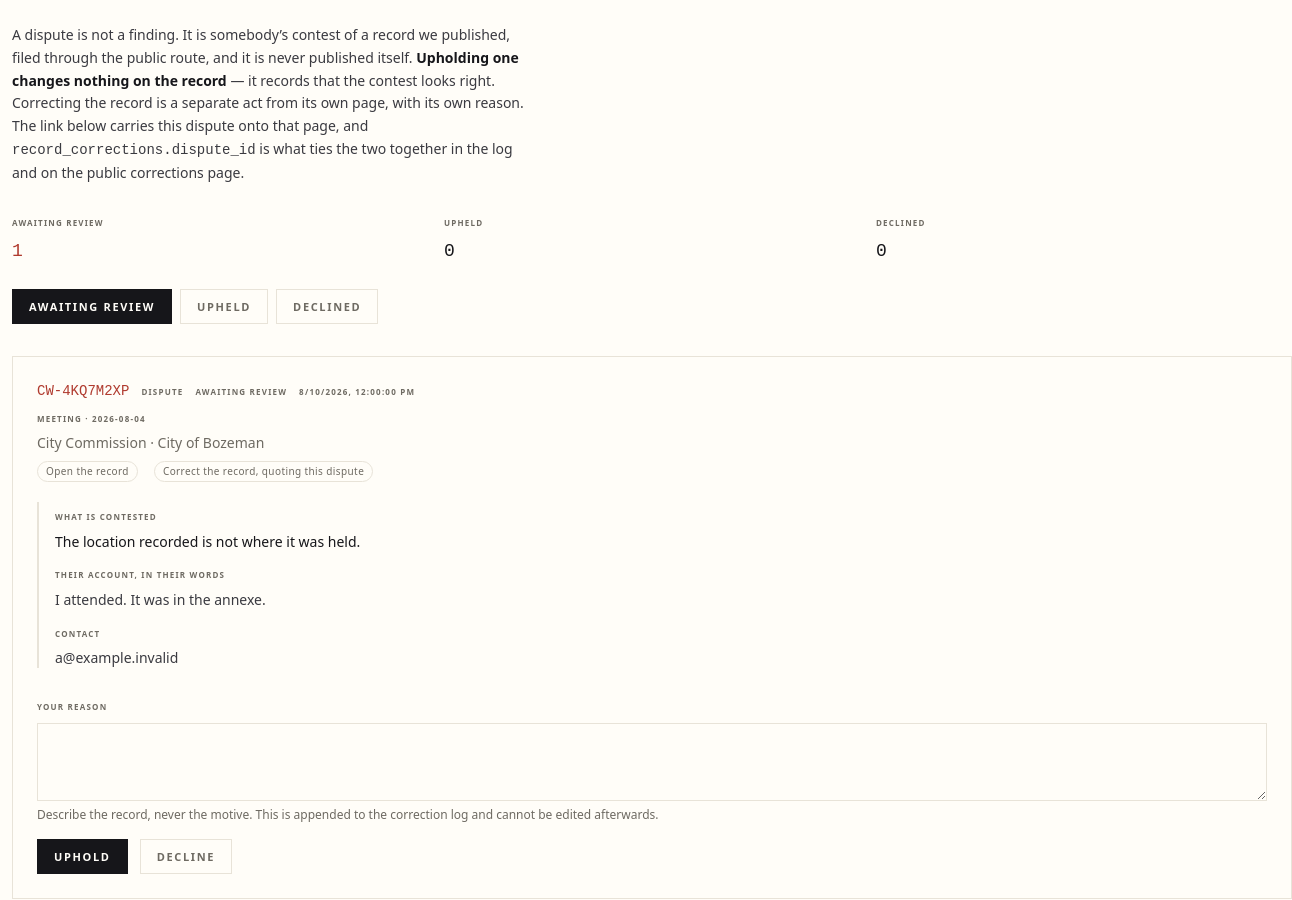
DisputeQueue › upholds with a reason and says the record has not changed
Step 1. Type "The agenda names the annexe." into the text box labelled "Your reason" → (652, 762), box top-left (37, 723), bottom-right (1267, 801)
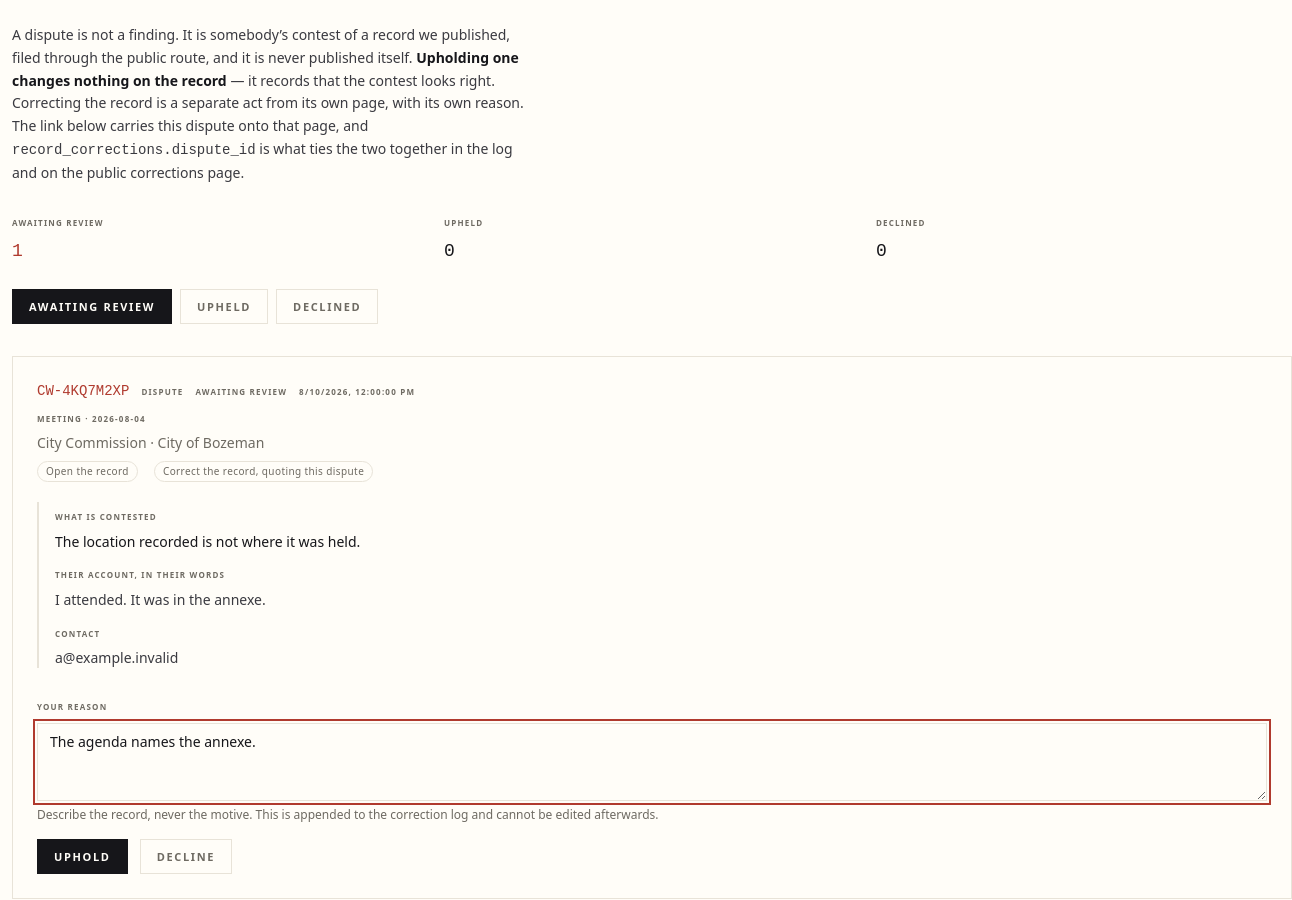
Step 2. Click the button "Uphold" → (82, 856), box top-left (37, 839), bottom-right (128, 874)
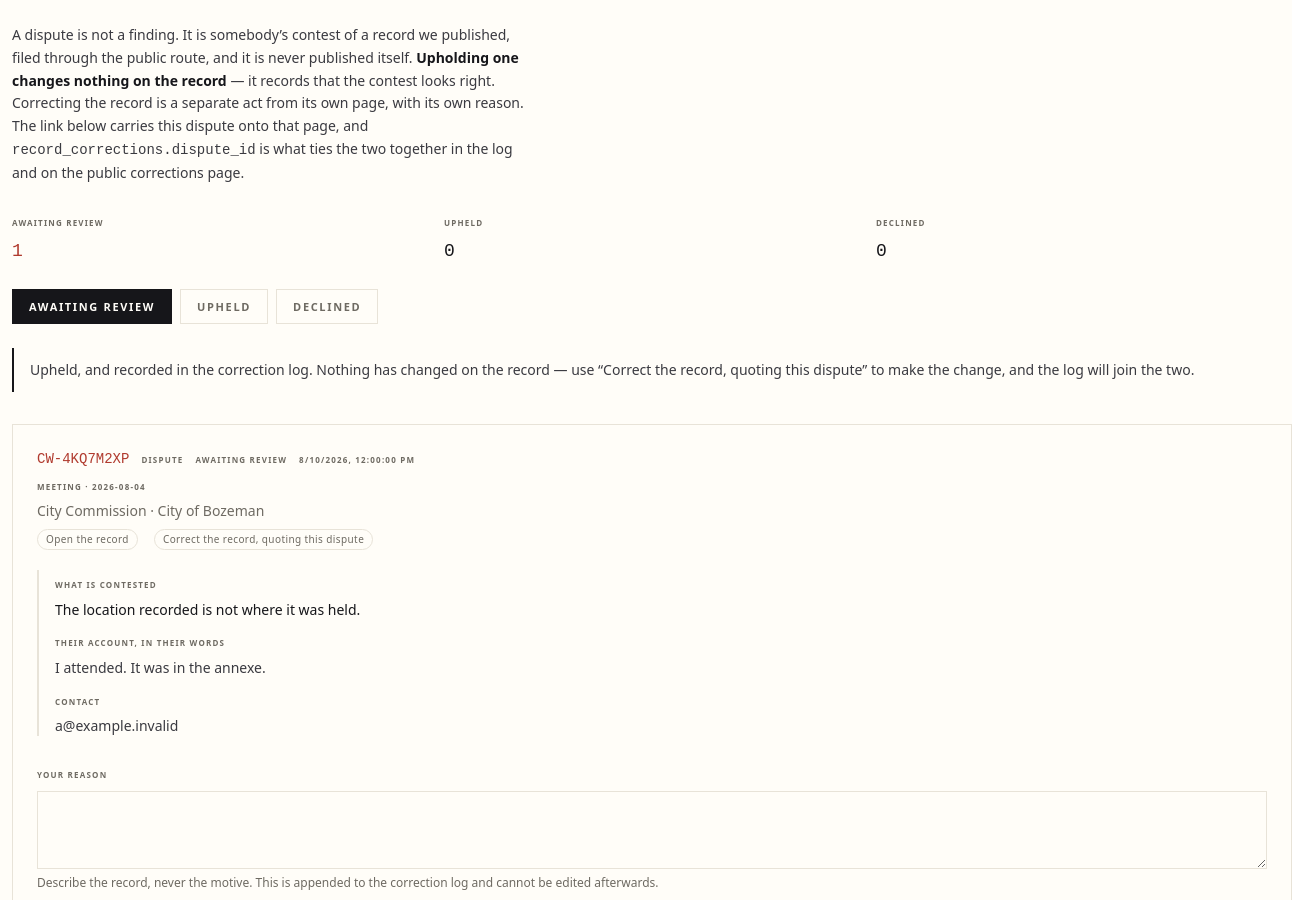
Check: the message shows "Nothing has changed on the record", box top-left (30, 360), bottom-right (1194, 379)
